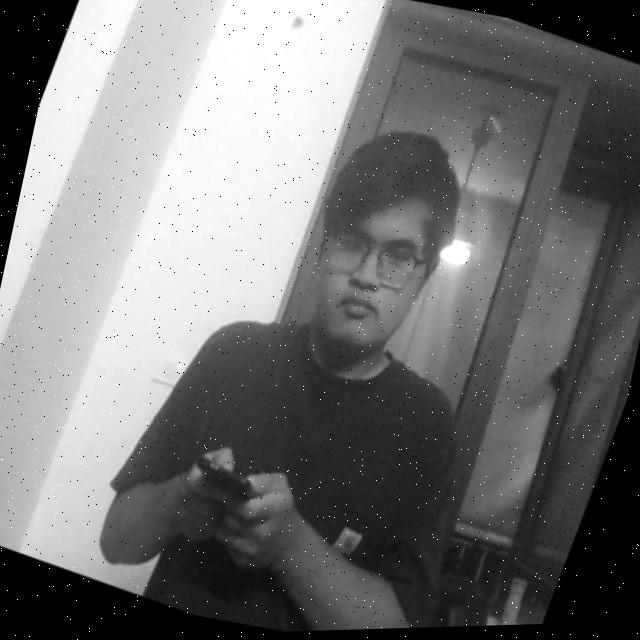phone: (168, 430, 296, 548)
